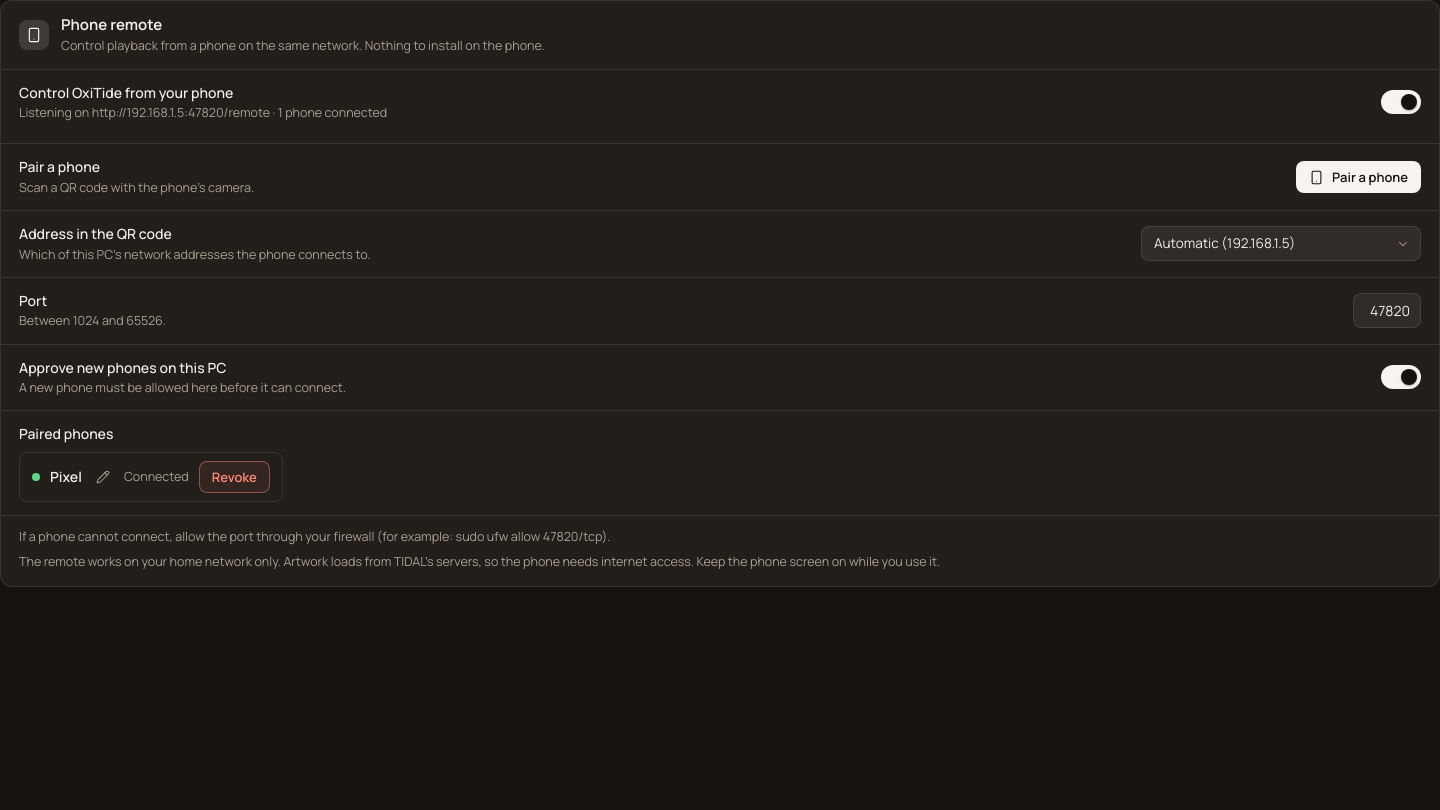
Settings → Remote › shows the address, devices, and revokes
Expected: the text "Listening on http://192.168.1.5:47820/remote" is shown, [19,104,387,121]
Expected: the text "Pixel" is shown, [50,467,82,487]
Click the button with aria-label "Revoke Pixel".
click(234, 477)  # box [199,461,270,493]
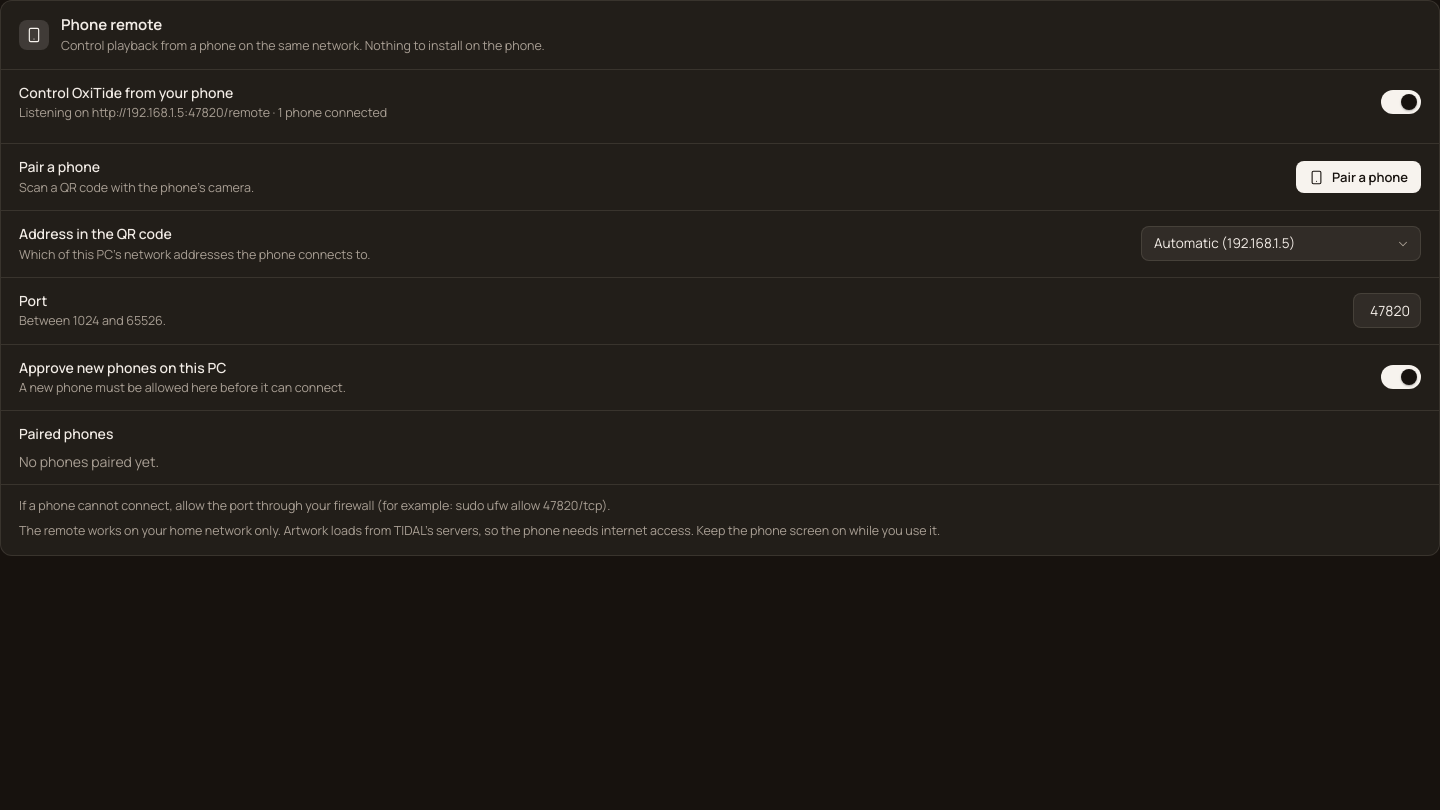
Now the text "Pixel" is gone
